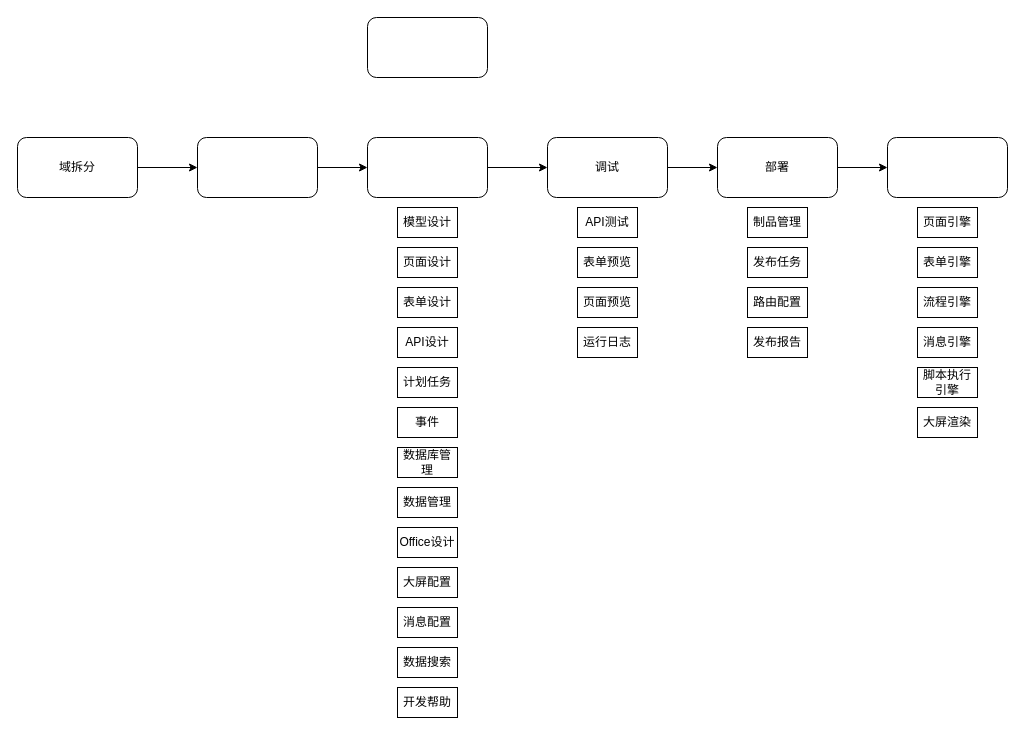
Image size: 1025x735. Some labels were removed from this diagram. Here are the shapes that lost their labels. From the top down, the box of each, then its label:
(366, 16, 488, 78): 平台升级
(196, 136, 318, 198): 模块拆分
(366, 136, 488, 198): 开发
(886, 136, 1008, 198): 运行
